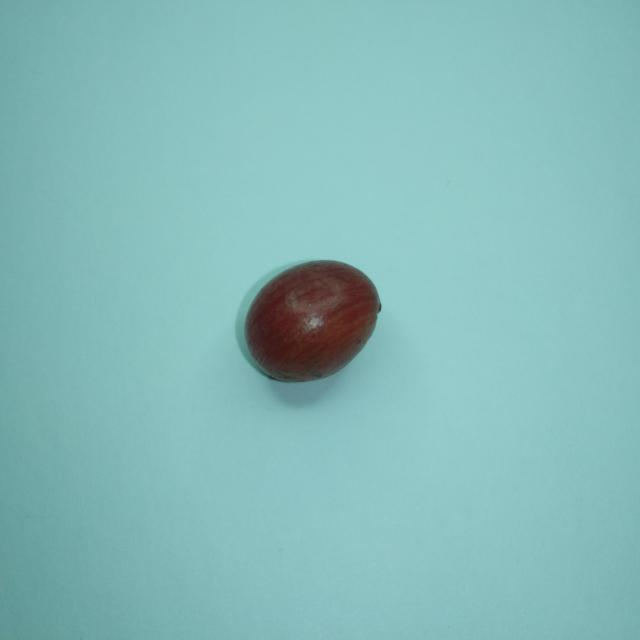Sano: (241, 261, 380, 381)
